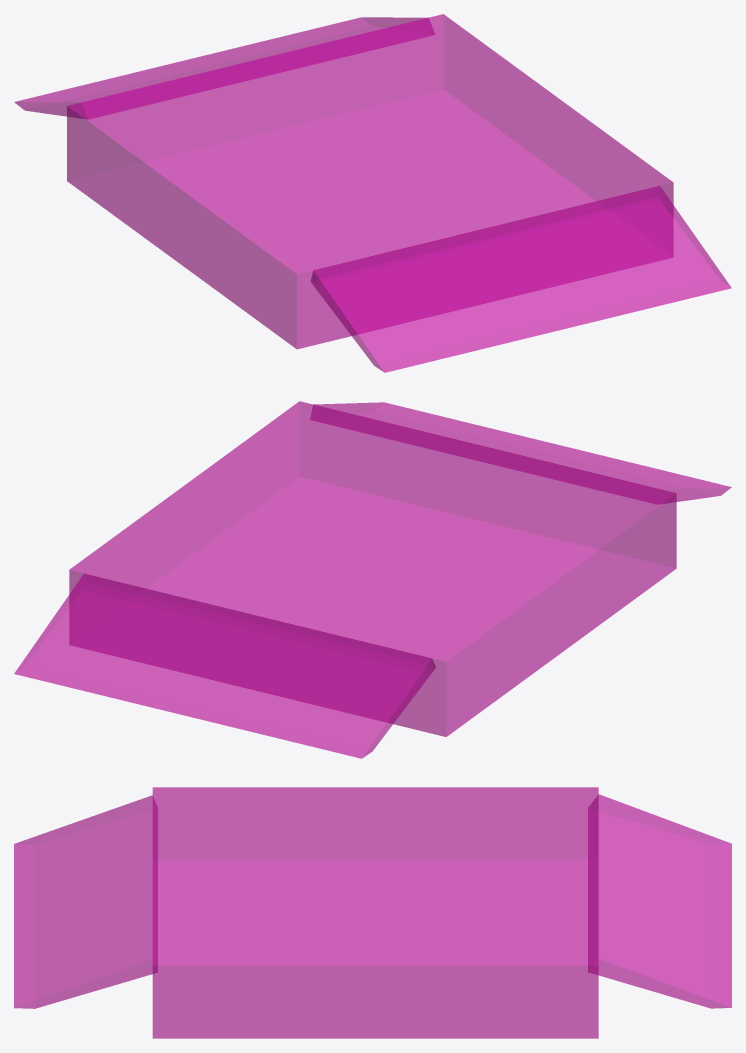
Rendered from SM_Prop_Ramp_02_Collision.fbx.
The picture shows the model from 3 angles, top to bottom: view 1: azimuth 30°, elevation 25°; view 2: azimuth 150°, elevation 25°; view 3: azimuth 270°, elevation 25°; orthographic projection. The views are drawn at different scales.
Parts seen in each view (by area): view 1: SM_Prop_Ramp_02_Collision; view 2: SM_Prop_Ramp_02_Collision; view 3: SM_Prop_Ramp_02_Collision.
Part boxes in pixels (<box>): SM_Prop_Ramp_02_Collision: <box>14,14,731,372</box>; SM_Prop_Ramp_02_Collision: <box>14,401,731,758</box>; SM_Prop_Ramp_02_Collision: <box>14,787,731,1038</box>.
Size of the model in its own units: 679 by 130 by 1157.
